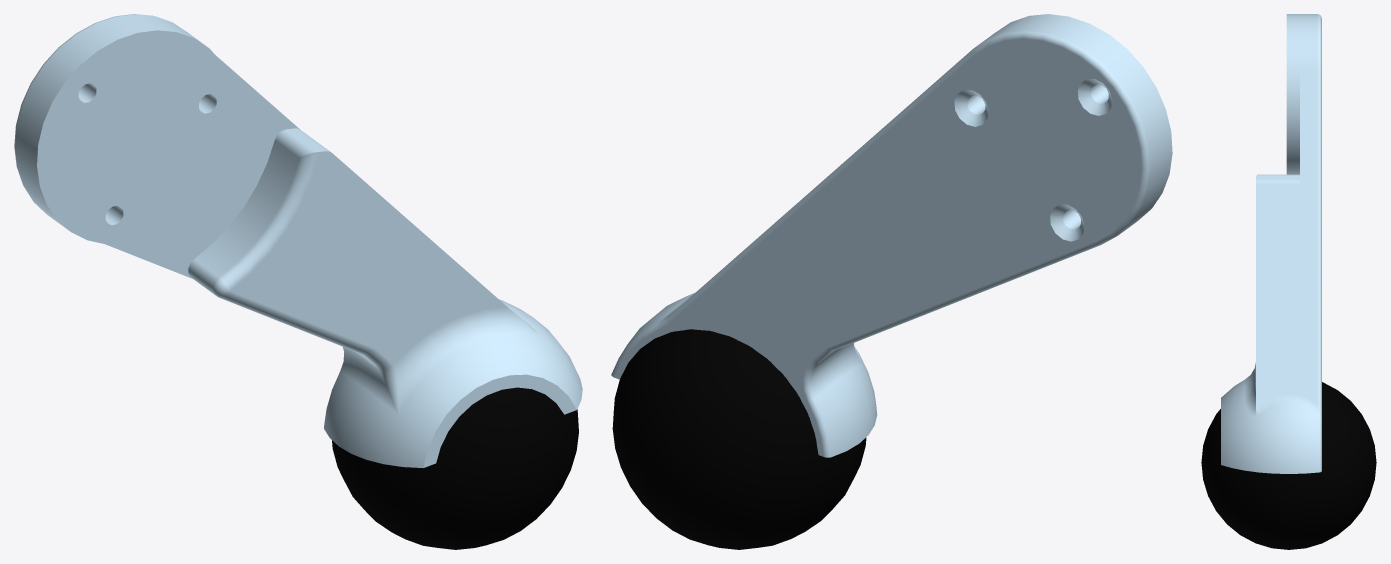
Rendered from pupperv3_export.004.dae.
3 renders of one model, left to right at view 1: azimuth 30°, elevation 25°; view 2: azimuth 150°, elevation 25°; view 3: azimuth 270°, elevation 25°, orthographic. The views are drawn at different scales.
Visible parts, largest first — view 1: pupperv3_export.004; view 2: pupperv3_export.004; view 3: pupperv3_export.004.
Boxes of the visible parts, box(x1,y1,x2,y2) form: pupperv3_export.004: box(14, 14, 582, 549); pupperv3_export.004: box(611, 14, 1172, 549); pupperv3_export.004: box(1201, 14, 1376, 549).
Bounding box in the file's own units: 0.0982 × 0.04 × 0.1035.
